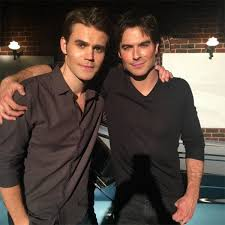Bad: (1, 8, 205, 225)
